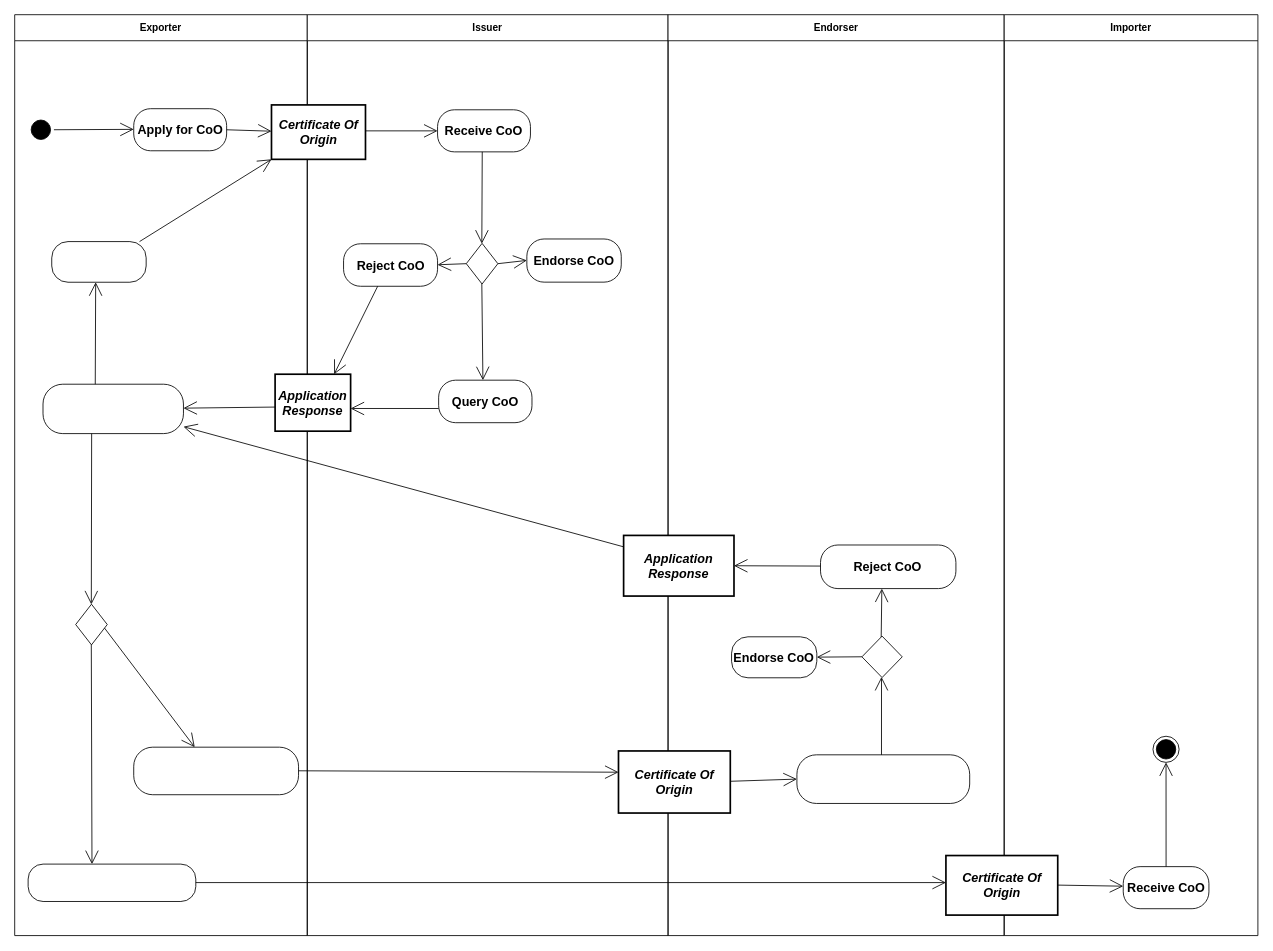
This 1273x951 diagram has some shape labels left out. The shapes that lost their labels are listed below. From the top down, each one's centre as x and y in pixels, then its label:
(98,261): Request Status
(112,408): Receive Response
(216,770): Apply for Endorsement
(883,778): Receive Certificate Of Origin
(111,882): Send CoO
